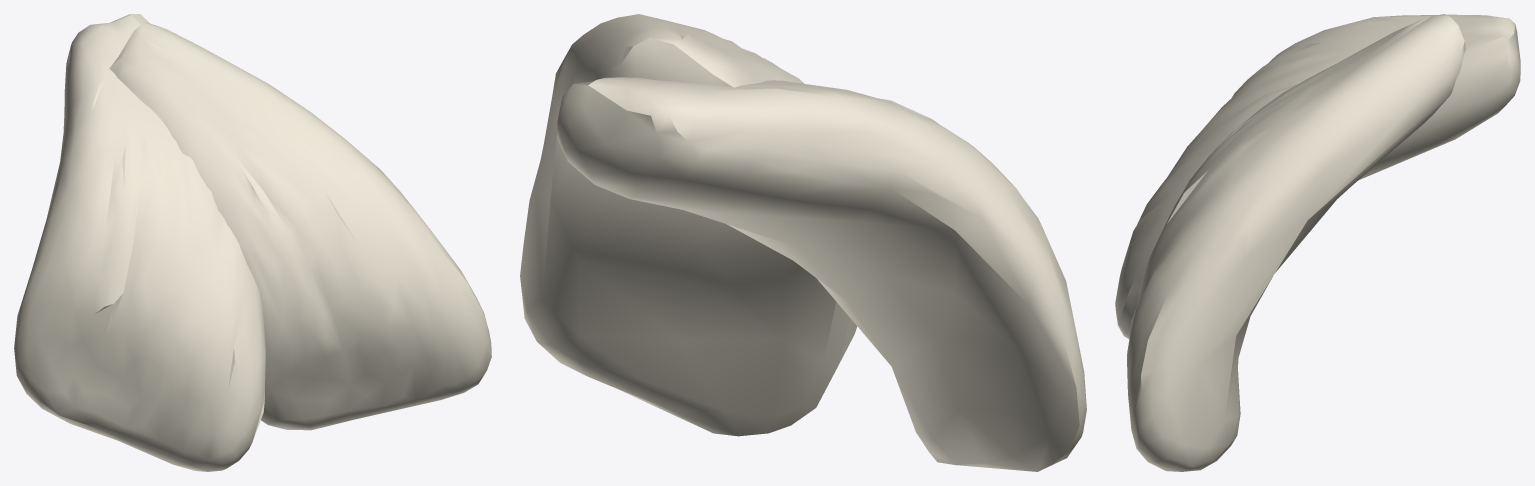
Rendered from fma73181_mm1465m.glb.
3 views of the same model, side by side, from view 1: azimuth 30°, elevation 25°; view 2: azimuth 150°, elevation 25°; view 3: azimuth 270°, elevation 25° (orthographic). The views are drawn at different scales.
Visible parts, largest first — view 1: FMA73181_MM1465M; view 2: FMA73181_MM1465M; view 3: FMA73181_MM1465M.
Part boxes in pixels (bbox=[...]): FMA73181_MM1465M: bbox=[14, 14, 491, 471]; FMA73181_MM1465M: bbox=[520, 14, 1086, 471]; FMA73181_MM1465M: bbox=[1115, 14, 1520, 471].
Size of the model in its own units: 0.00994 by 0.00785 by 0.00772.
